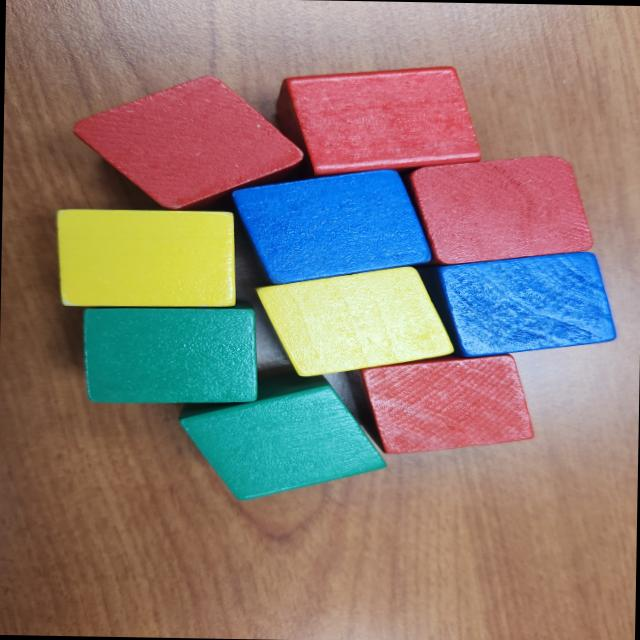blue: (232, 166, 438, 289), (416, 249, 622, 359)
green: (176, 368, 393, 507), (80, 304, 262, 407)
red: (76, 73, 304, 214), (280, 64, 482, 178), (404, 153, 594, 265), (340, 350, 538, 456)
yellow: (256, 263, 456, 381), (54, 206, 238, 308)
